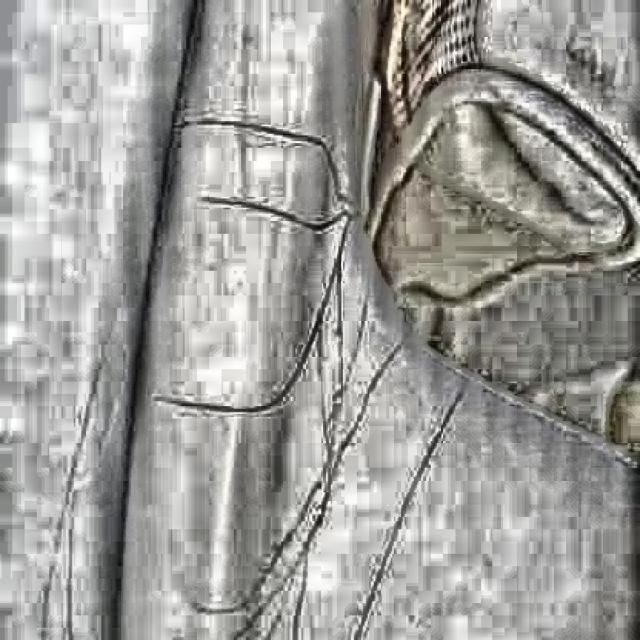crack: (180, 353, 303, 450), (231, 119, 346, 173), (212, 189, 326, 243)
